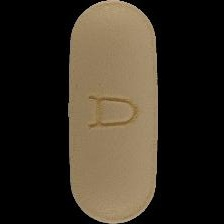52125-851: (0, 0, 224, 224)
